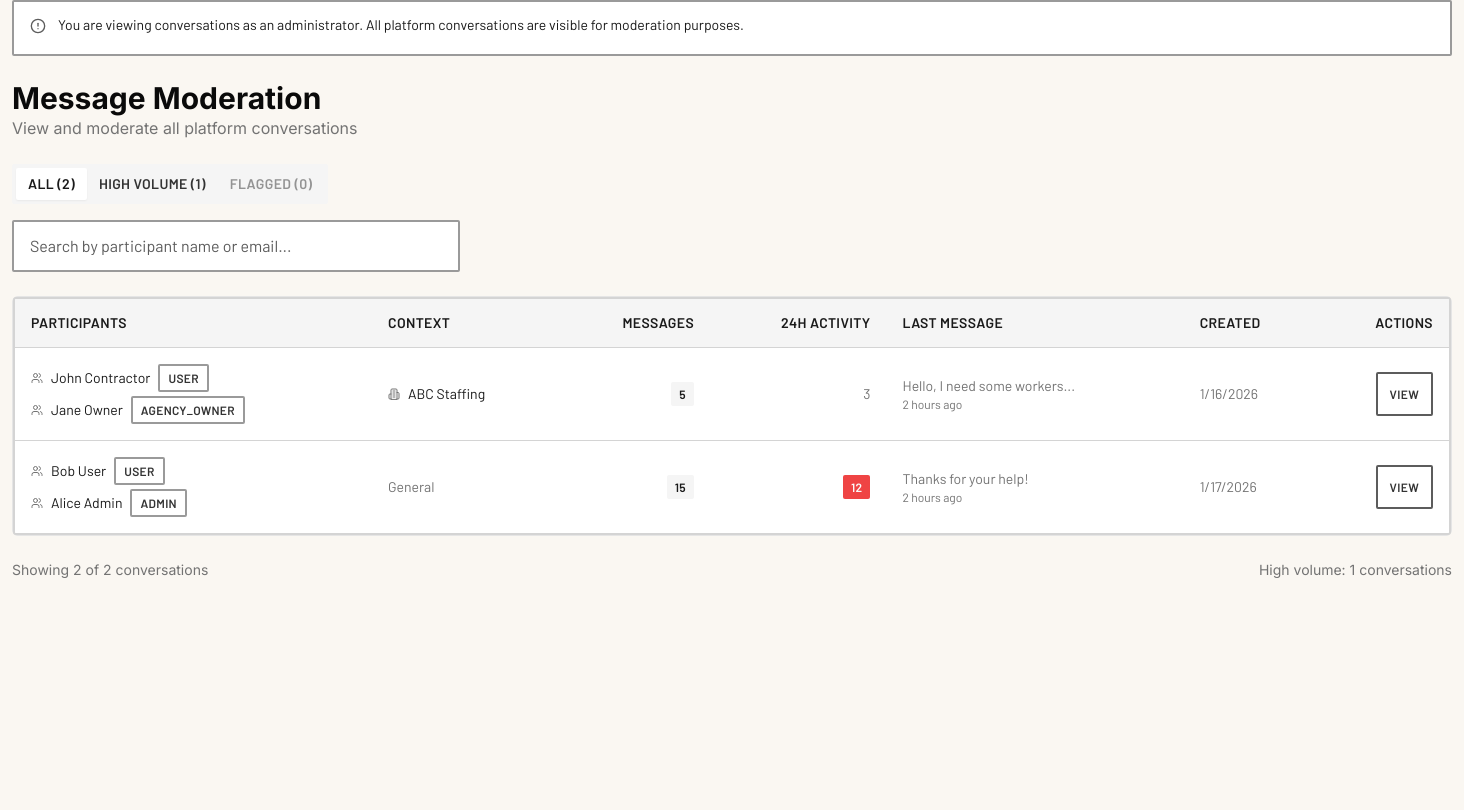
Test: AdminMessagesClient › Filter Tabs › should show all conversations on All tab
First click High Volume
Click the tab "High Volume (1)".
click(152, 184)  # box [87, 168, 218, 200]
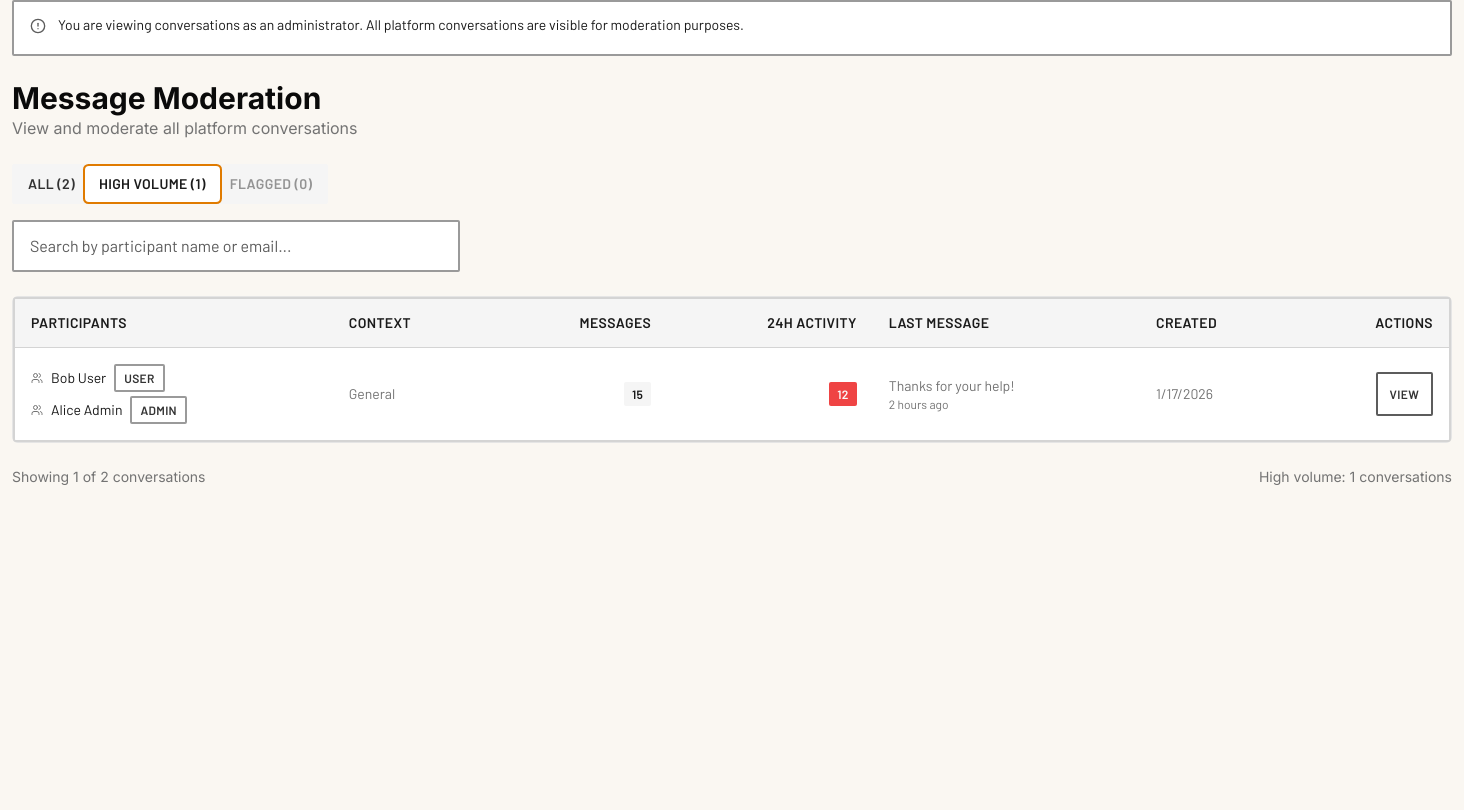
Then click All
Click the tab "All (2)".
click(51, 184)  # box [16, 168, 87, 200]
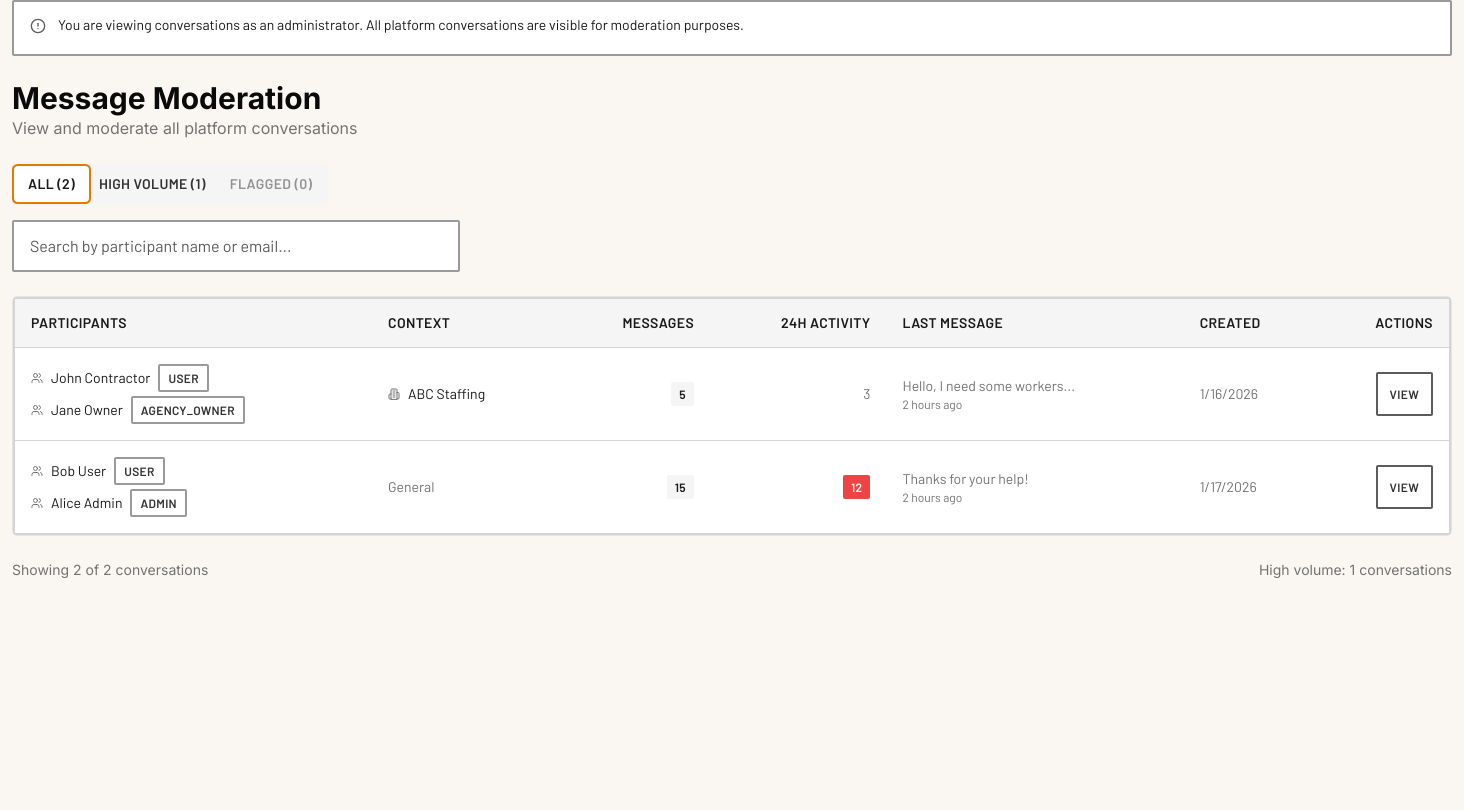
Expected: the text "Bob User" is shown, [51, 460, 106, 480]
Now the text "John Contractor" is shown, box [51, 368, 150, 388]
